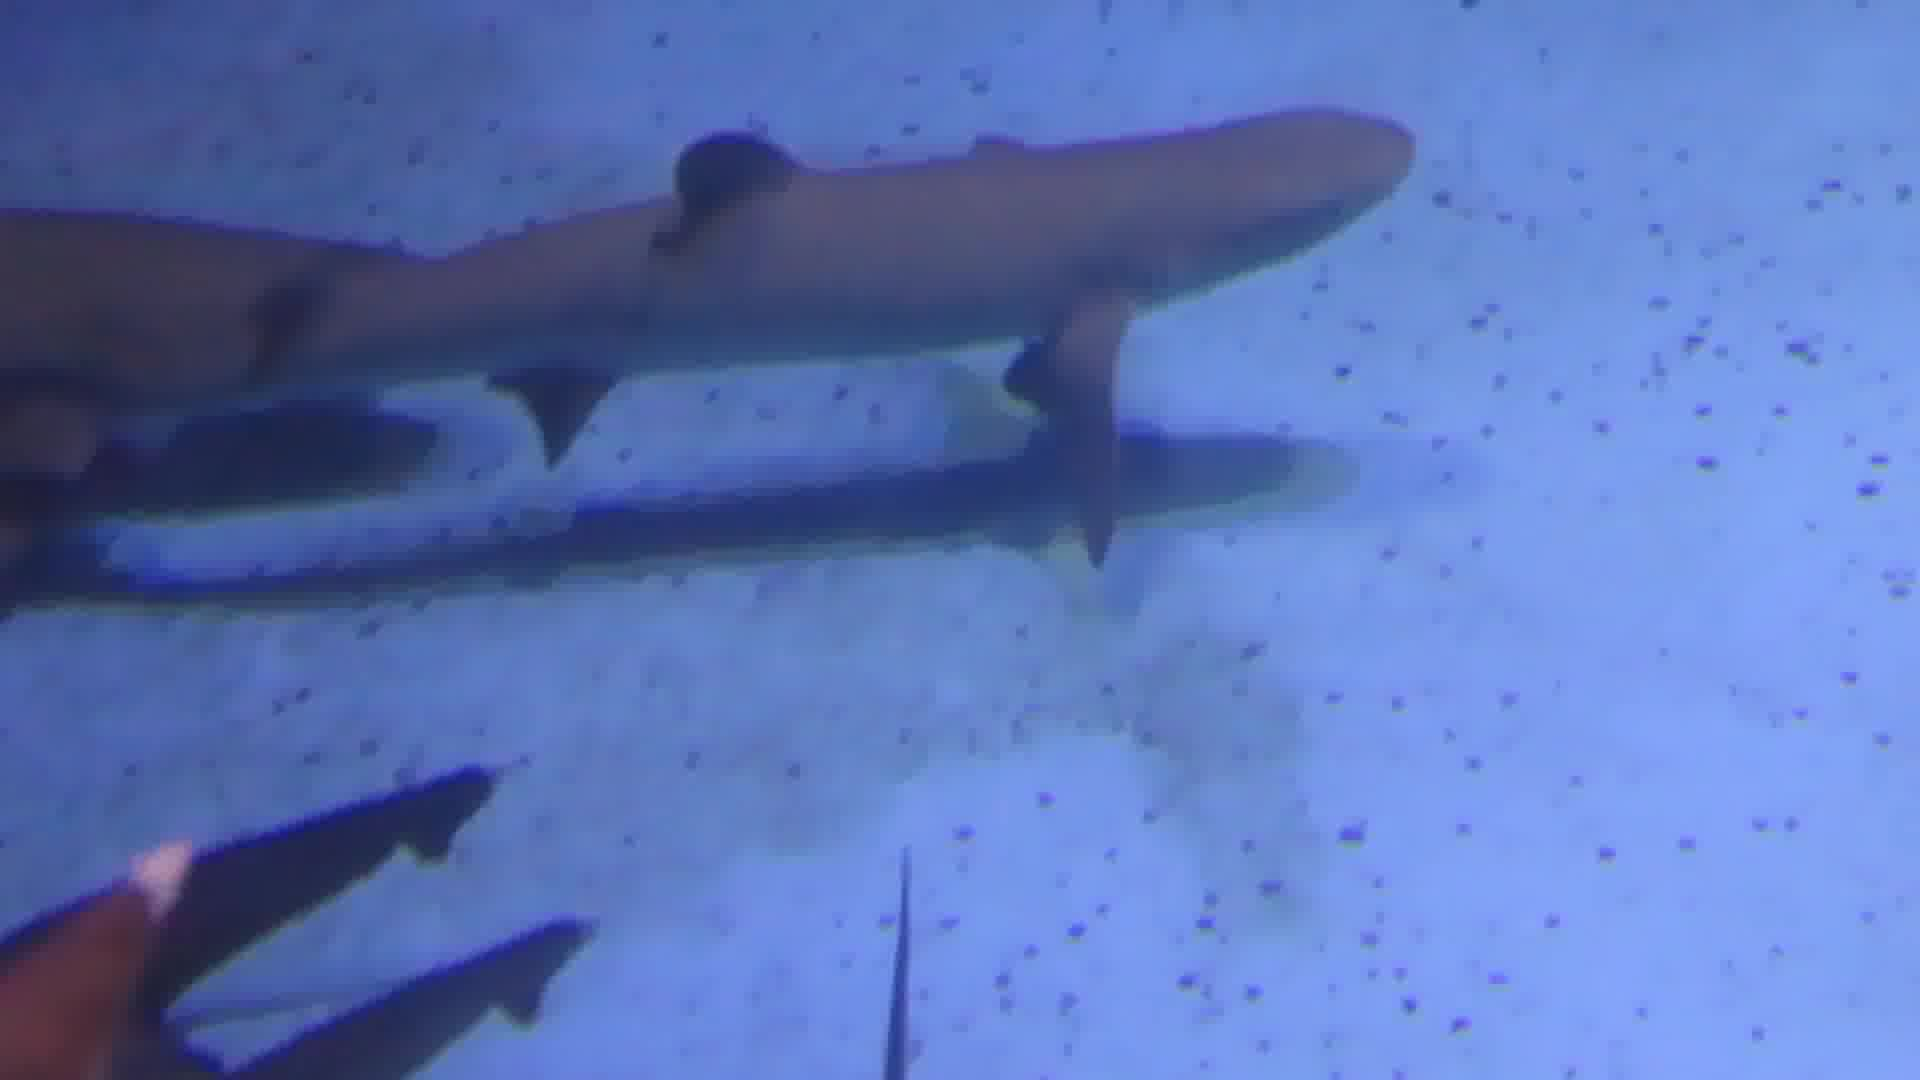Triaenodon obesus: (57, 70, 1432, 423)
